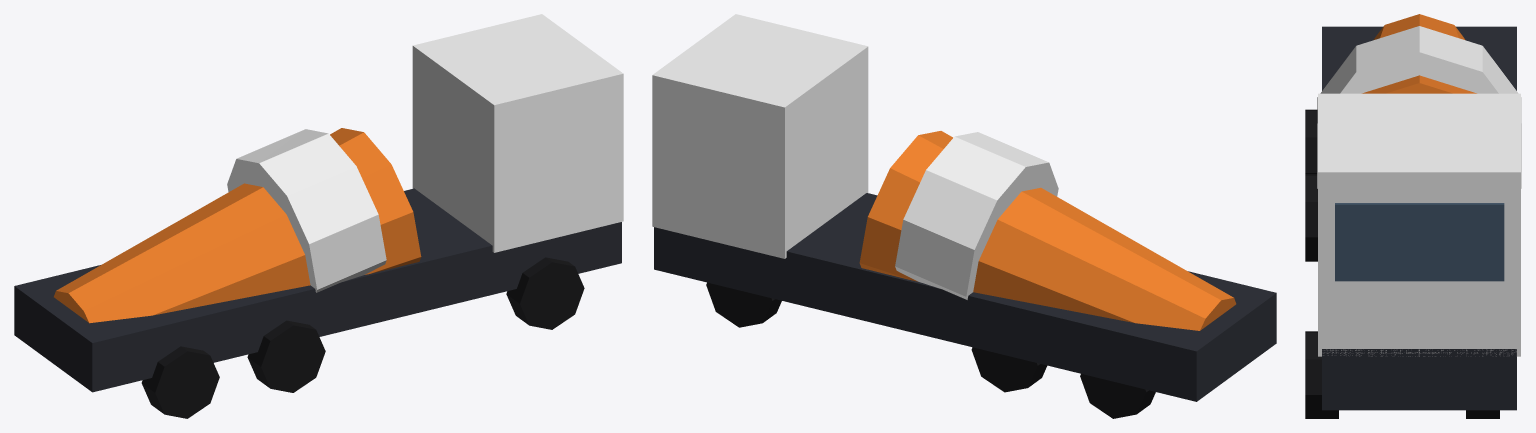
File: camion_mixer.obj
3 views of the same model, side by side, from view 1: azimuth 30°, elevation 25°; view 2: azimuth 150°, elevation 25°; view 3: azimuth 270°, elevation 25° (orthographic). The views are drawn at different scales.
Parts seen in each view (by area): view 1: camion_mixer; view 2: camion_mixer; view 3: camion_mixer.
Boxes of the visible parts, x1,y1,x2,y2 form: camion_mixer: (14, 14, 623, 418); camion_mixer: (652, 14, 1276, 418); camion_mixer: (1305, 14, 1521, 418).
Size of the model in its own units: 9.05 by 3.8 by 2.56.
